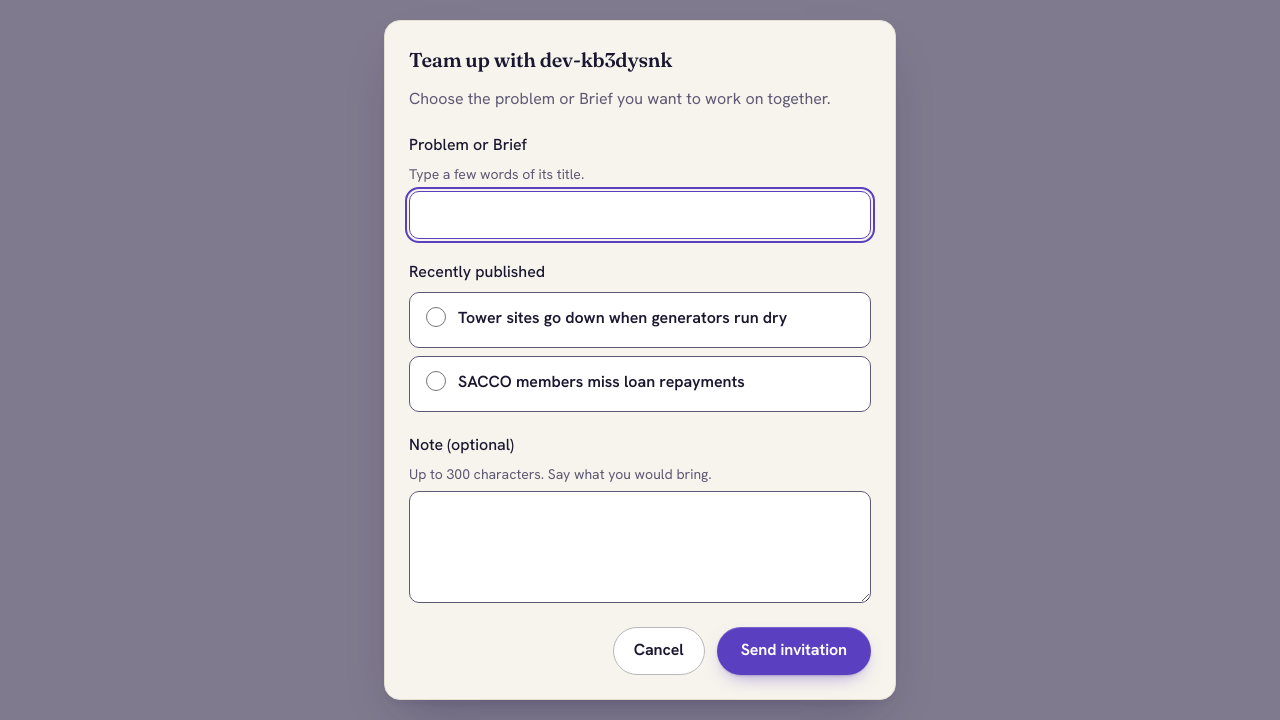
it: the Team up sheet › says the alreadyInvited refusal in one sentence and stays open
The image size is (1280, 720).
Click the radio button labelled "Tower sites go down when generators run dry": x=436, y=317 [426,307,446,327]
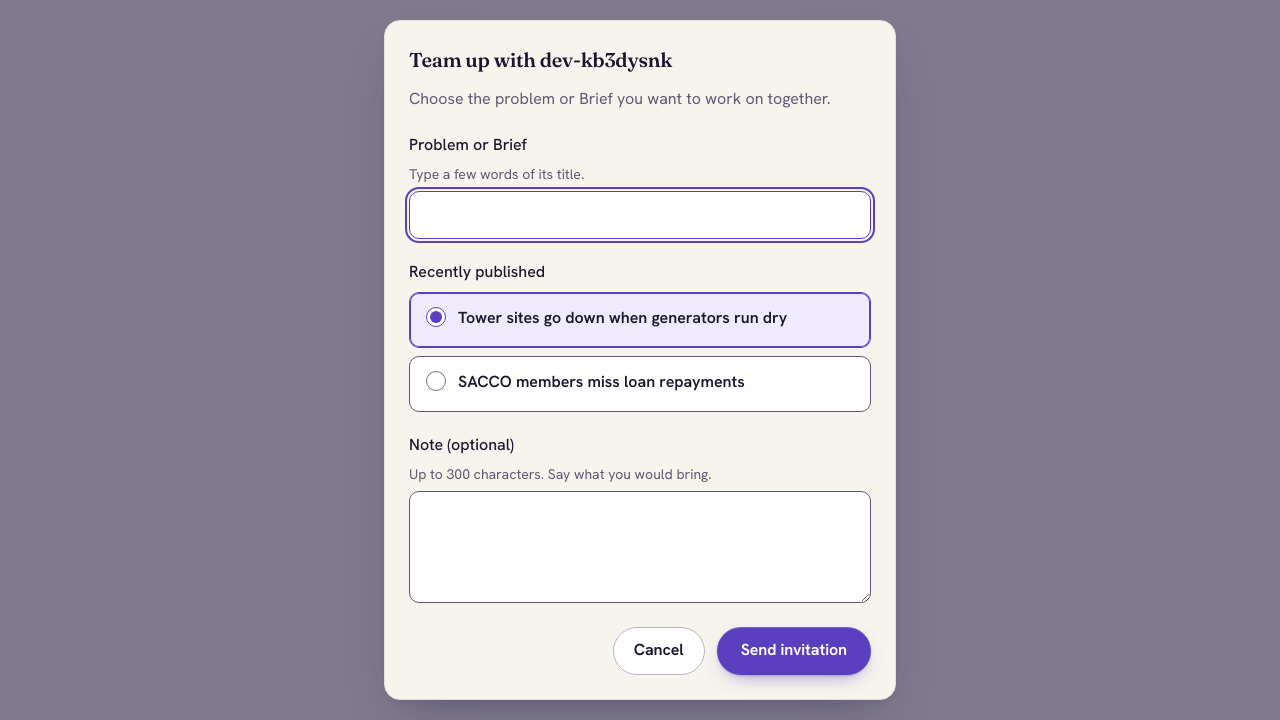
Click the button "Send invitation": x=794, y=651 [717,627,871,675]
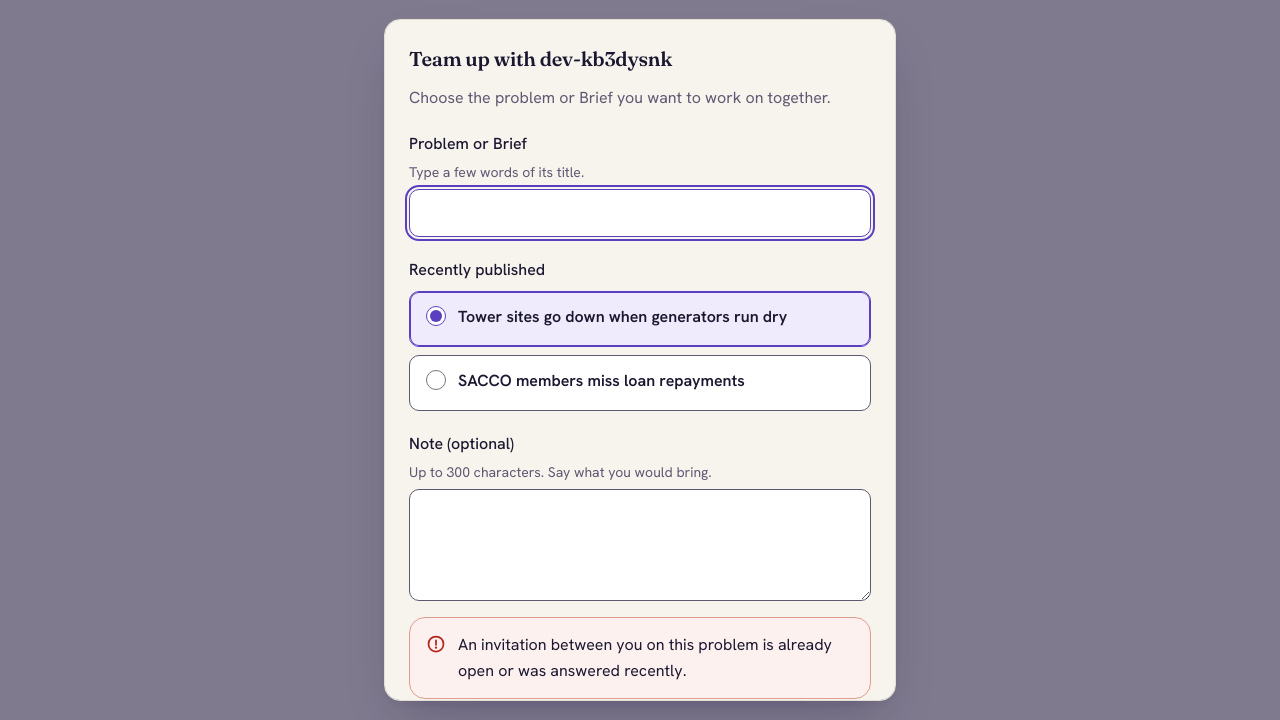
Expected: the message shows "An invitation between you on this problem is already open or was answered recently.", [458,634,832,681]
